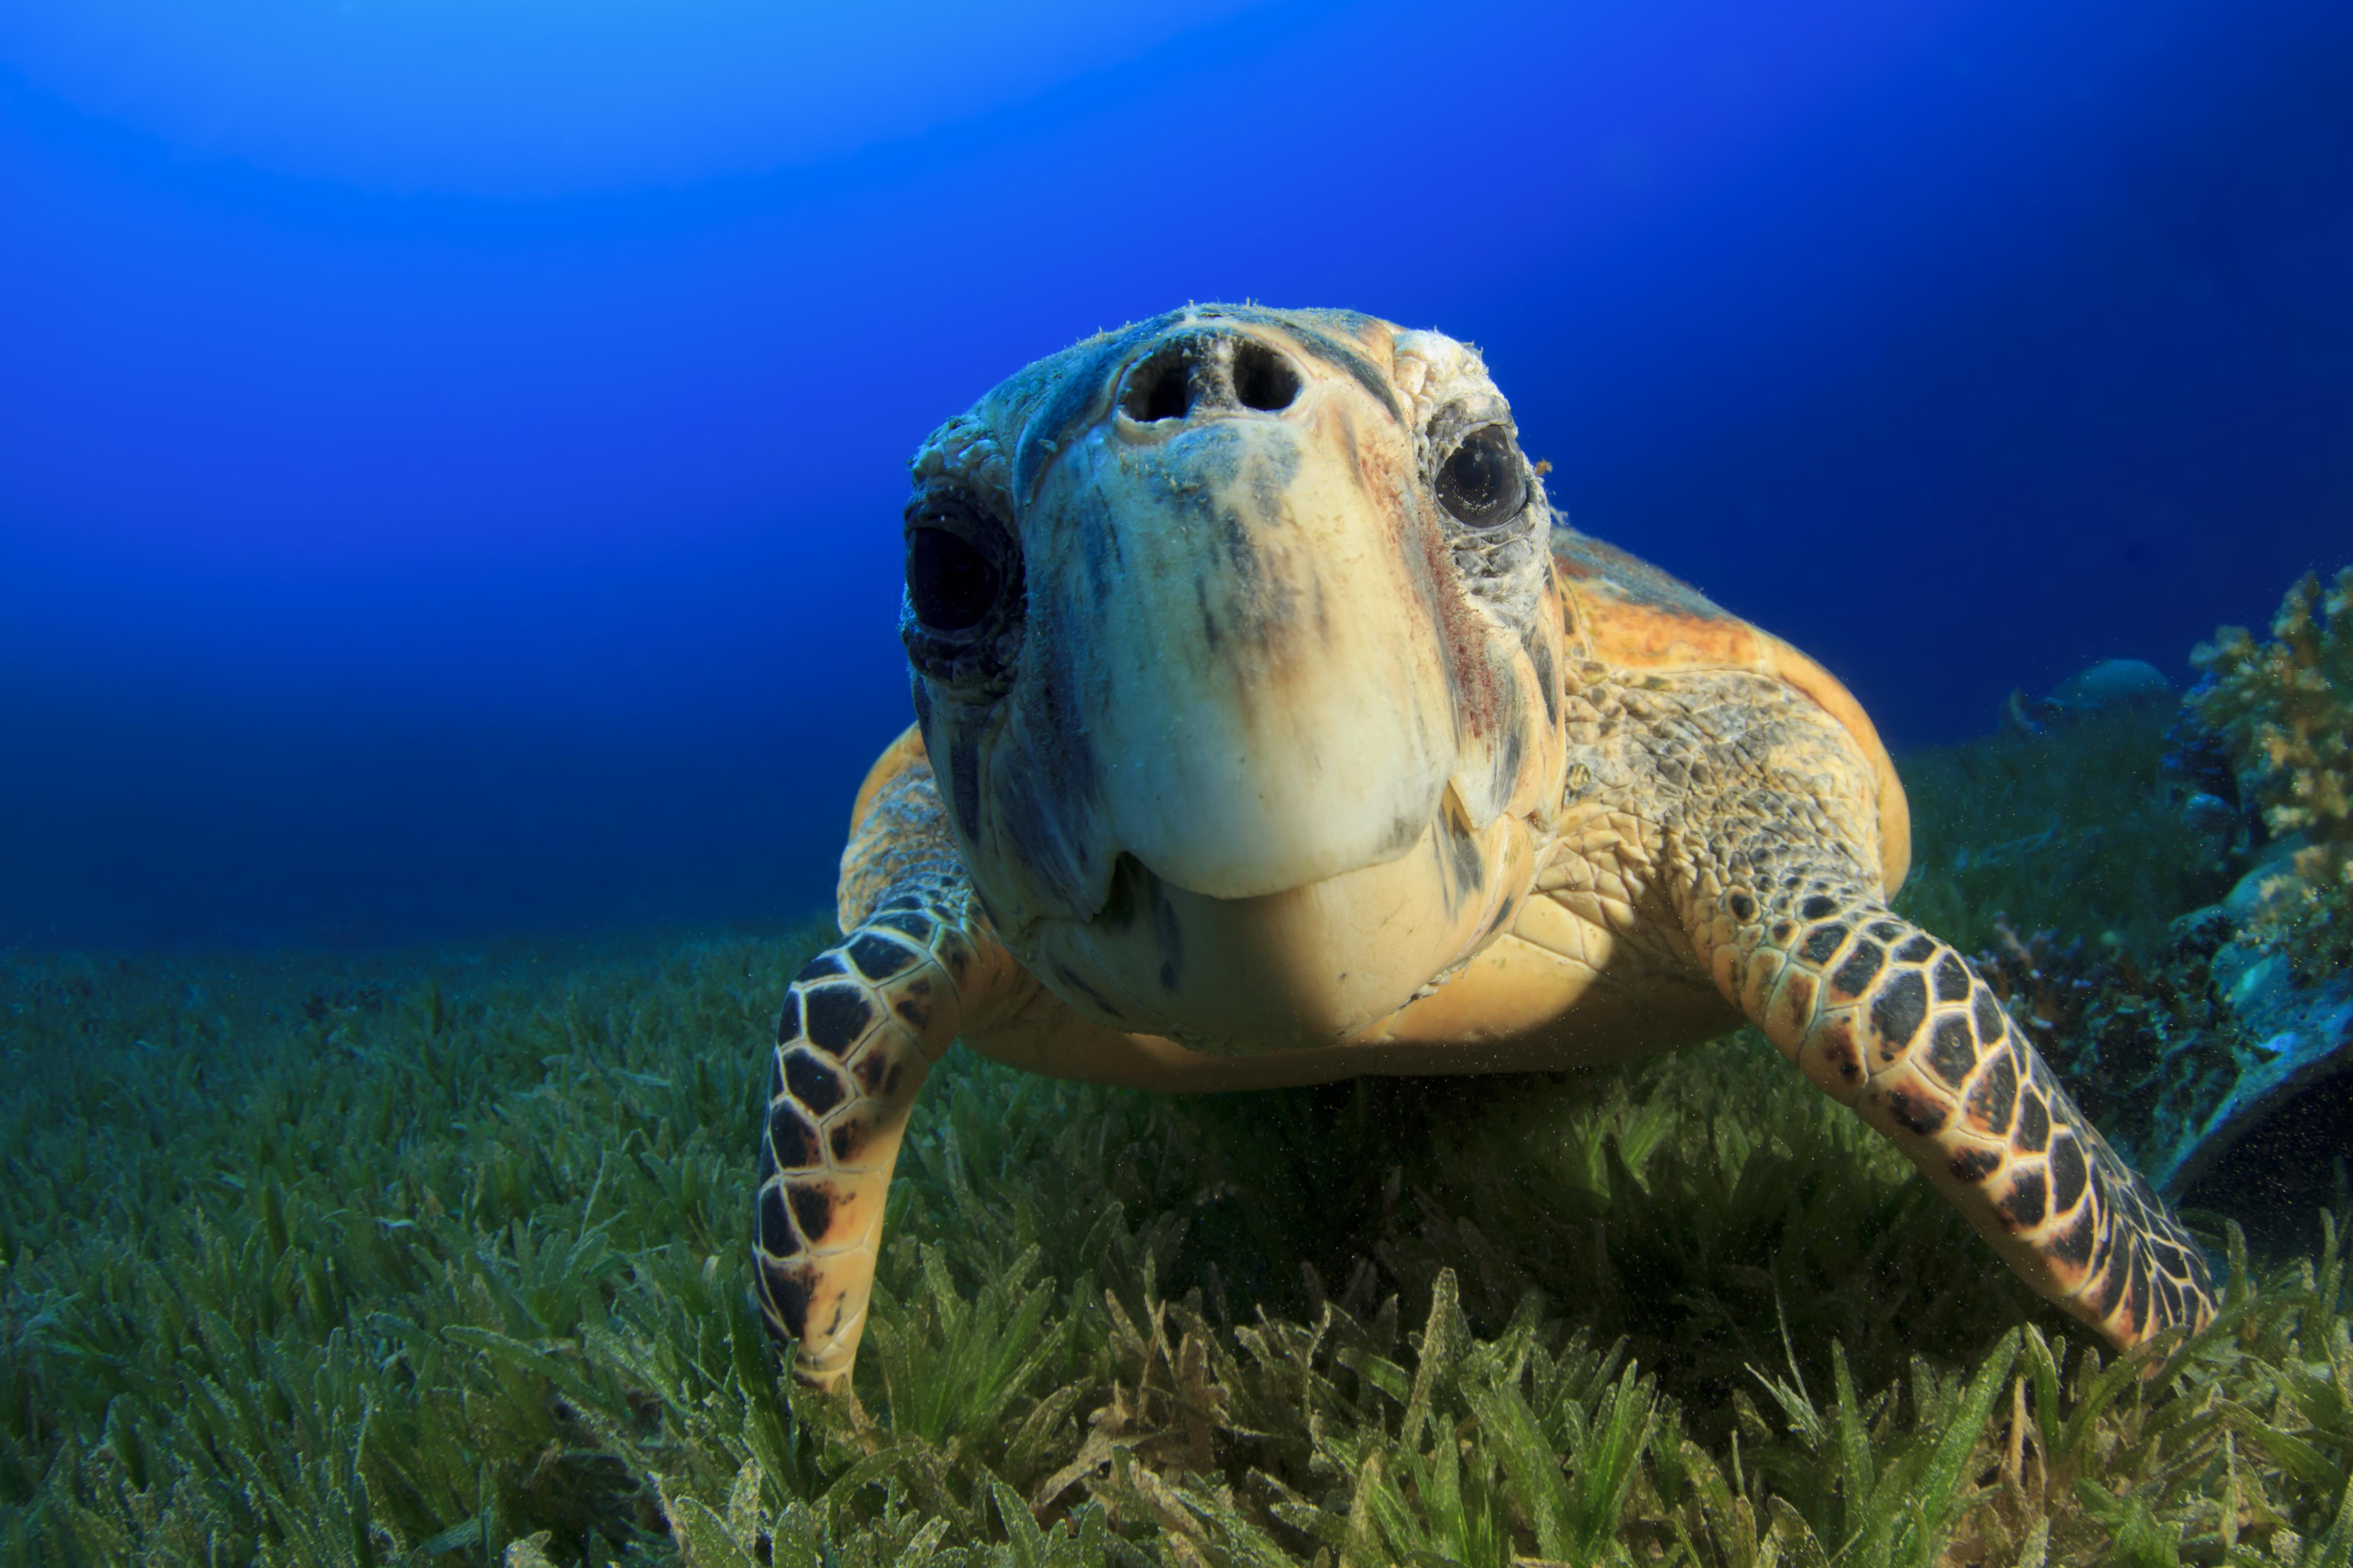turtle: (874, 262, 1663, 1094)
